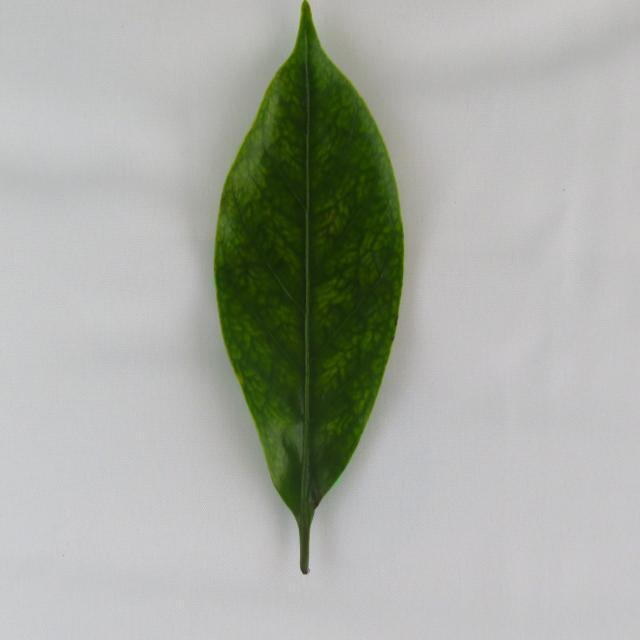DeficienciaNutricional-Manganeso: (215, 2, 404, 573)
